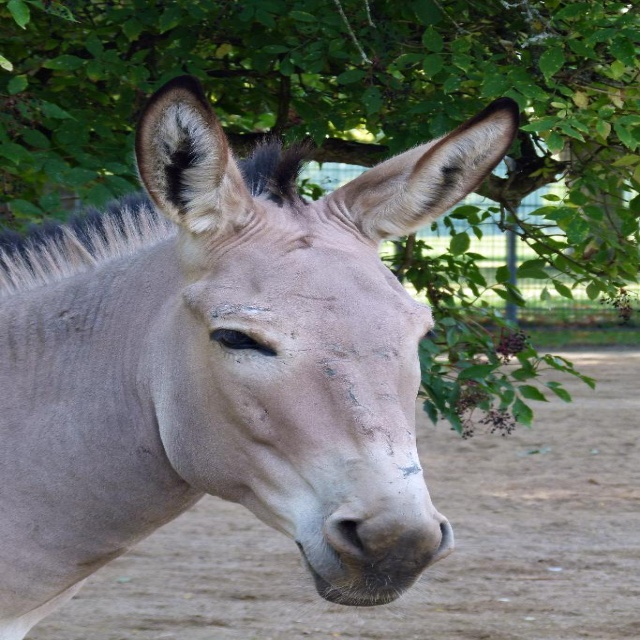Mule: (0, 80, 511, 640)
